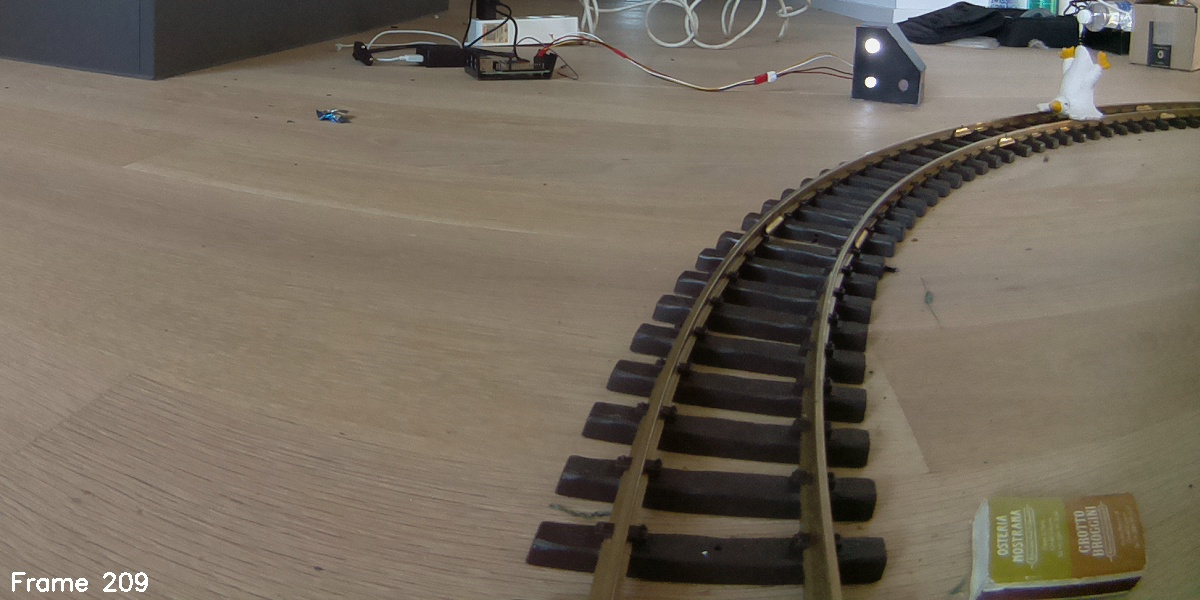Ente: (1036, 44, 1110, 122)
Fahrt: (852, 23, 928, 109)
